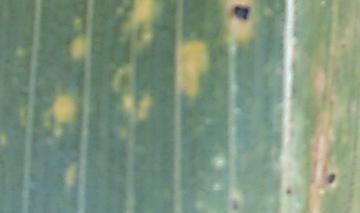tarspot: (233, 5, 249, 21), (231, 198, 241, 211), (327, 171, 336, 184), (286, 188, 293, 196), (340, 42, 347, 50)
